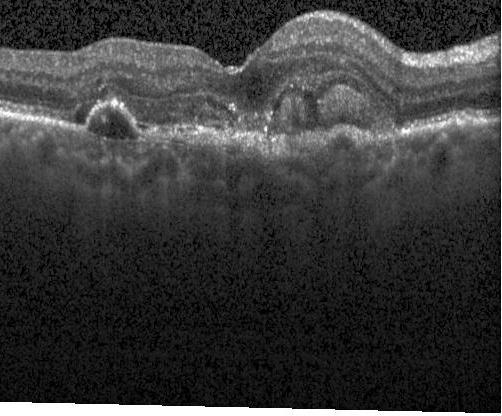retinal_drusen: (88, 107, 137, 138)
subretinal_hyperreflective_material: (147, 80, 477, 155)
